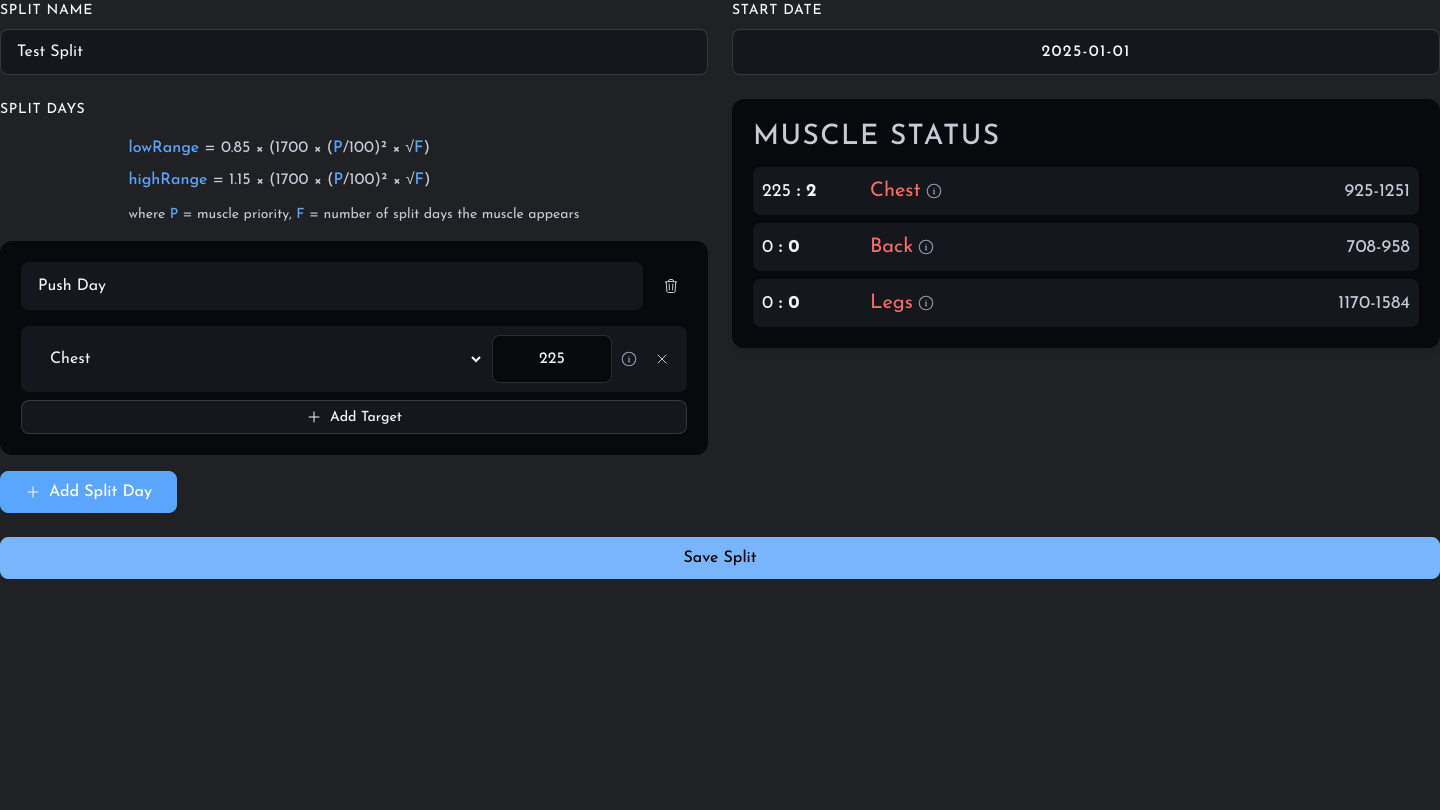
it: SplitCreator Component › shows workout-tracker style muscle tooltip in splitsPage editor
Check: the heading "Muscle Status" is shown, box [753,123,1000,151]
Click the button titled "View muscle info": (629, 359) [620,350,638,368]
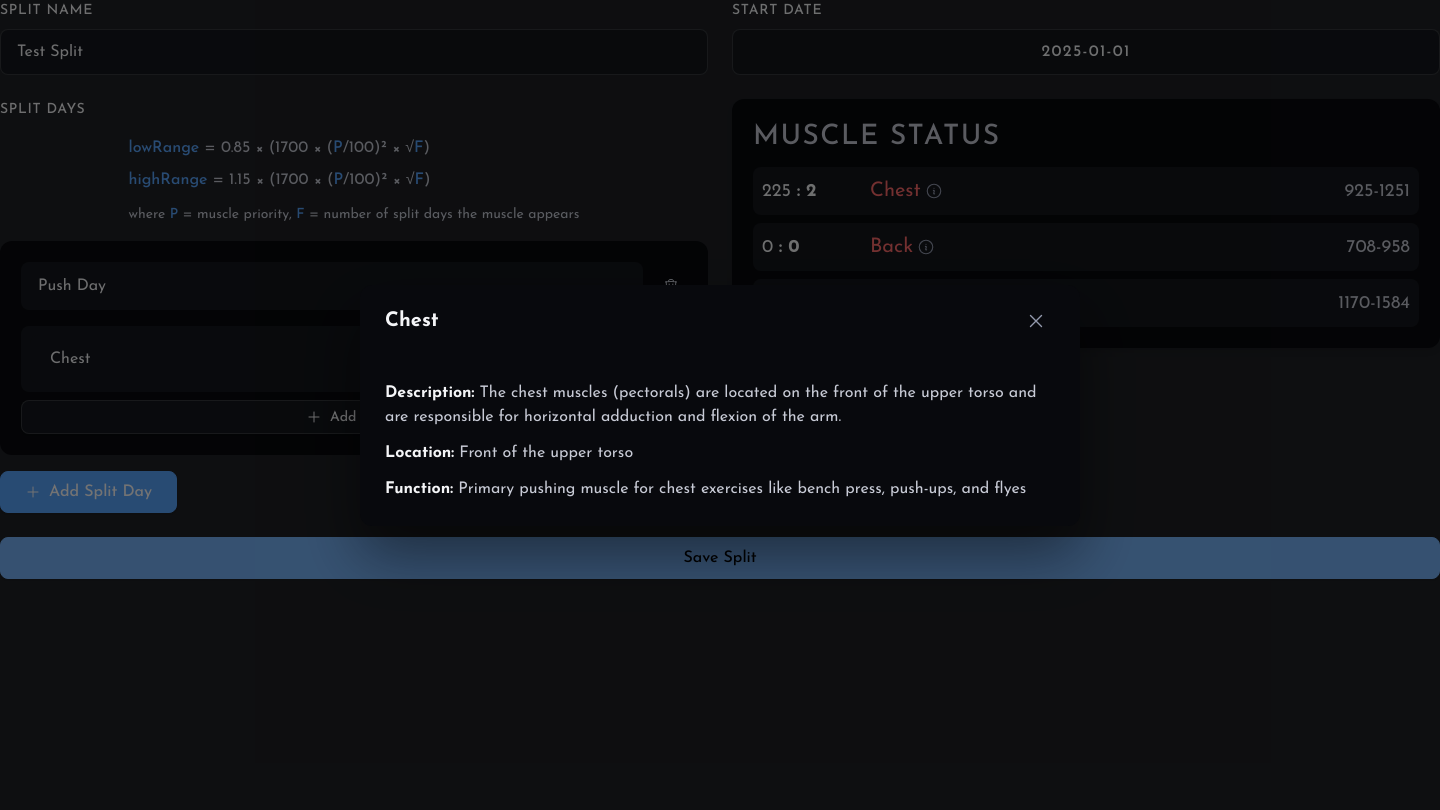
Check: the text "Description:" is shown, box [385,384,474,400]
Check: the text "Location:" is shown, box [385,444,454,460]
Check: the text "Function:" is shown, box [385,480,453,496]
